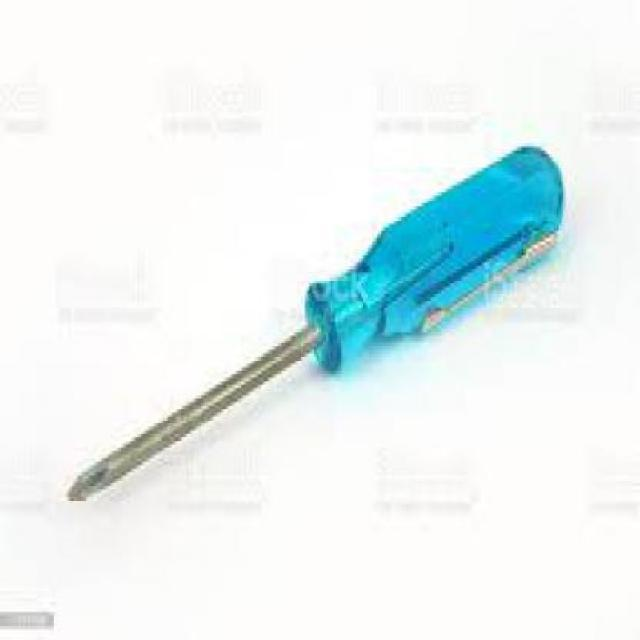screwdriver: (66, 147, 566, 504)
